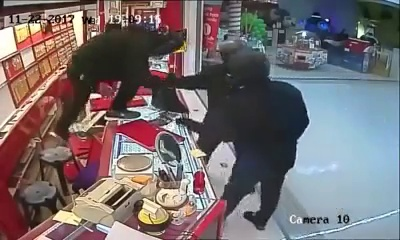helmet: (226, 48, 273, 83)
